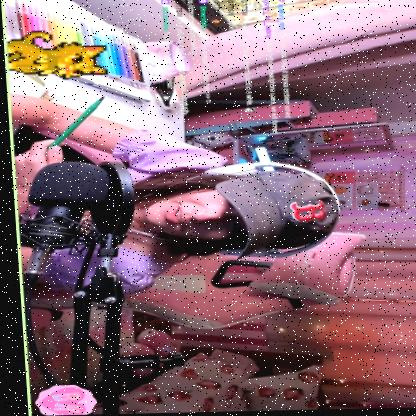streamer: (8, 88, 343, 298)
